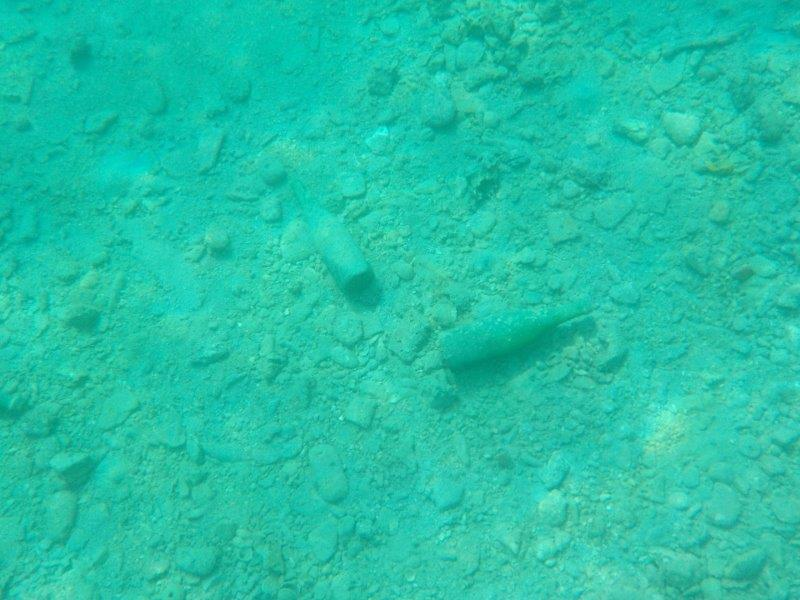bottle: (426, 297, 599, 376), (288, 177, 379, 295)
